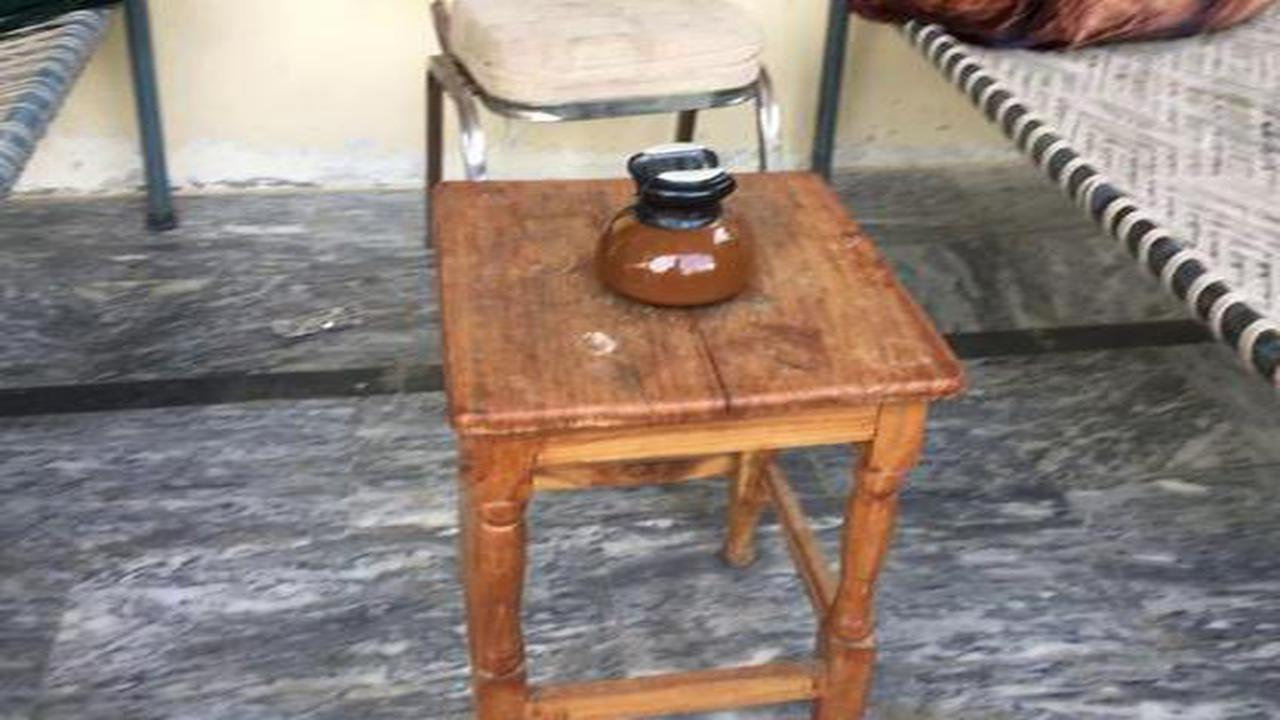insulator_pin: (561, 134, 773, 317)
